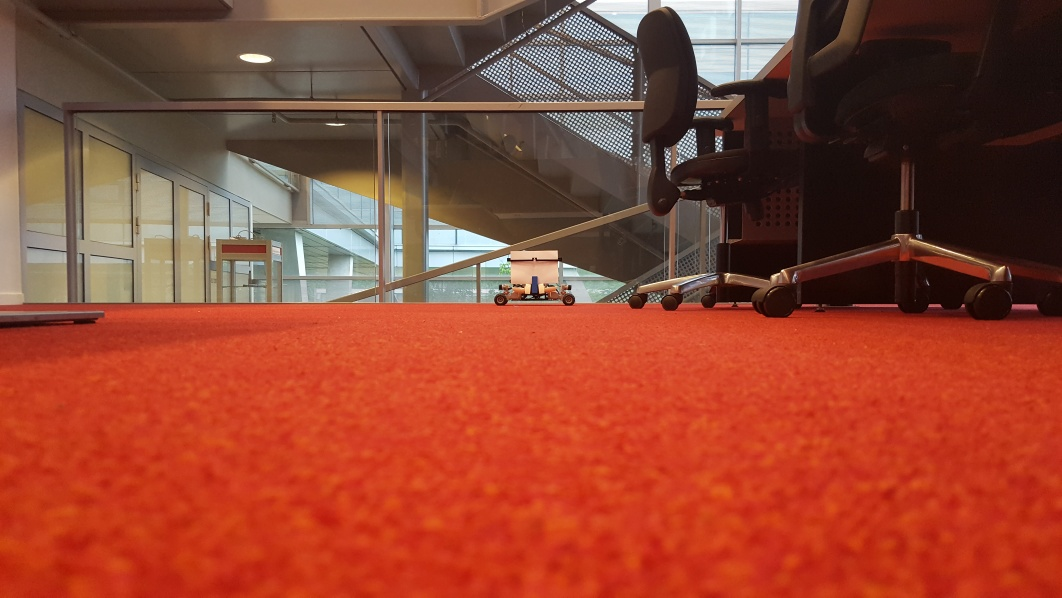car: (493, 249, 578, 312)
